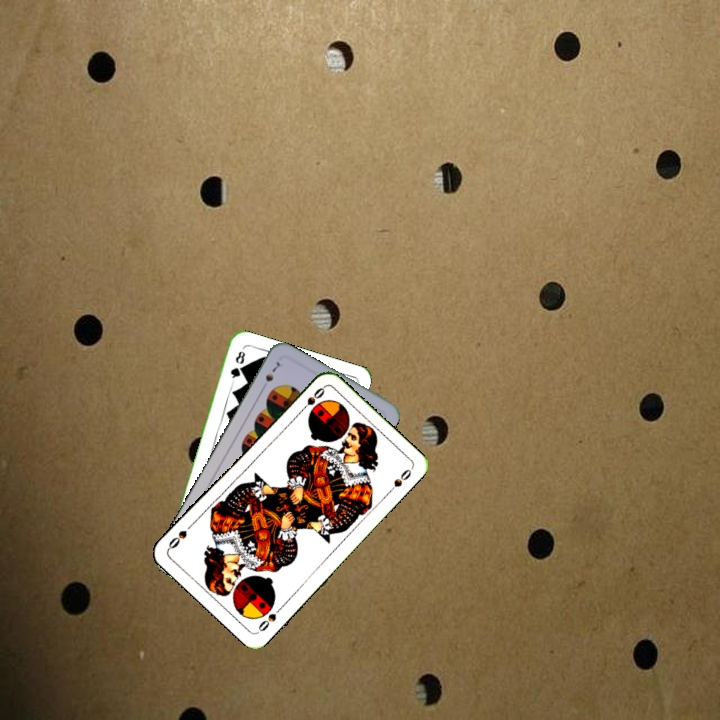G8: (226, 347, 248, 385)
S7: (257, 358, 282, 393)
SO: (295, 383, 327, 416), (254, 602, 285, 635)
